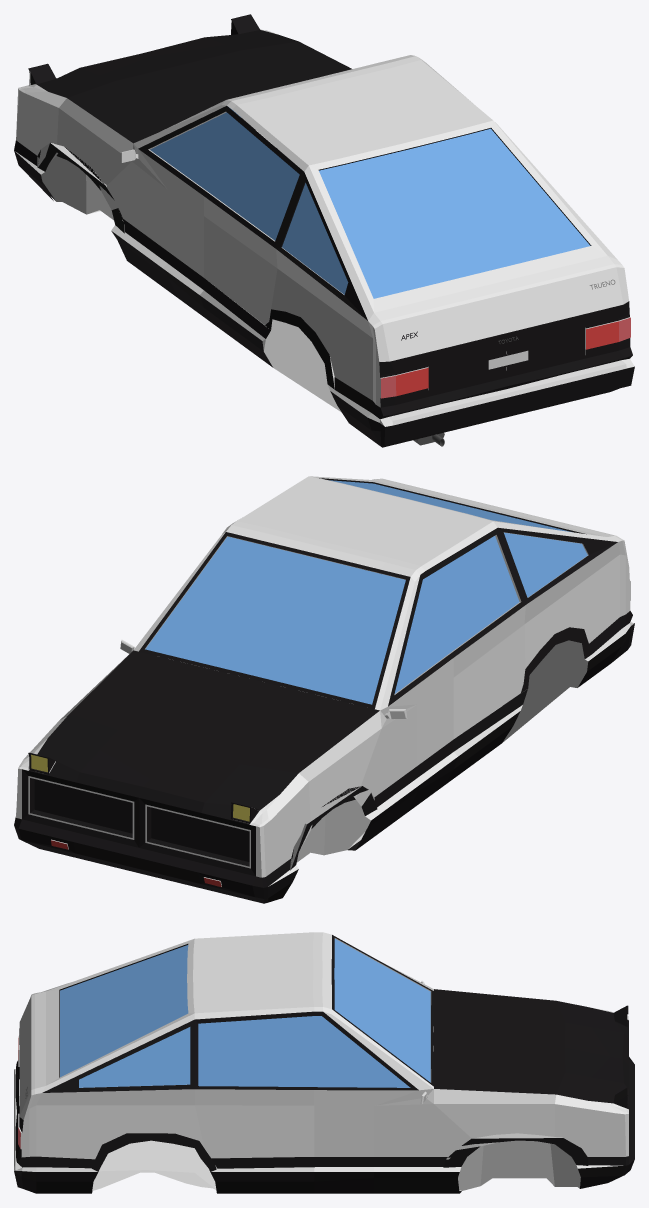
File: truentouusi.fbx
3 views of the same model, one above another, from view 1: azimuth 30°, elevation 25°; view 2: azimuth 150°, elevation 25°; view 3: azimuth 270°, elevation 25° (orthographic). The views are drawn at different scales.
Parts seen in each view (by area): view 1: Cube; view 2: Cube; view 3: Cube.
Part boxes in pixels (left/top/right/bottom): Cube: left=14, top=14, right=634, bottom=447; Cube: left=14, top=476, right=634, bottom=903; Cube: left=14, top=932, right=634, bottom=1193.
Bounding box in the file's own units: 625 × 1414 × 464.
